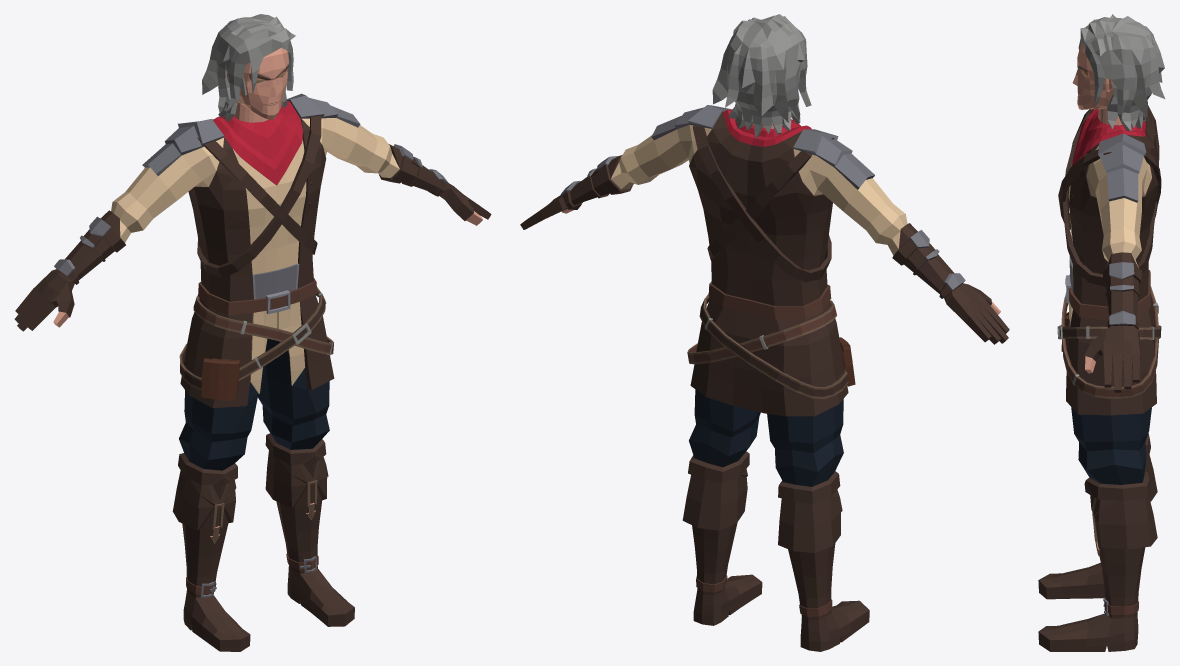
Rendered from Fantasy_char.fbx.
3 renders of one model, left to right at view 1: azimuth 30°, elevation 25°; view 2: azimuth 150°, elevation 25°; view 3: azimuth 270°, elevation 25°, orthographic. The views are drawn at different scales.
Visible parts, largest first — view 1: Fantasy_char; view 2: Fantasy_char; view 3: Fantasy_char.
Boxes of the visible parts, x1,y1,x2,y2 form: Fantasy_char: (14, 14, 491, 651); Fantasy_char: (520, 14, 1009, 651); Fantasy_char: (1038, 14, 1165, 651).
Bounding box in the file's own units: 187 × 225 × 43.35.
